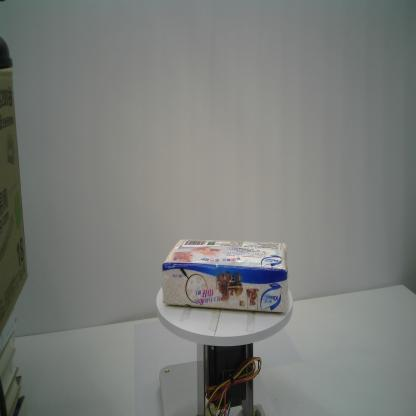Tissue: (162, 239, 288, 313)
